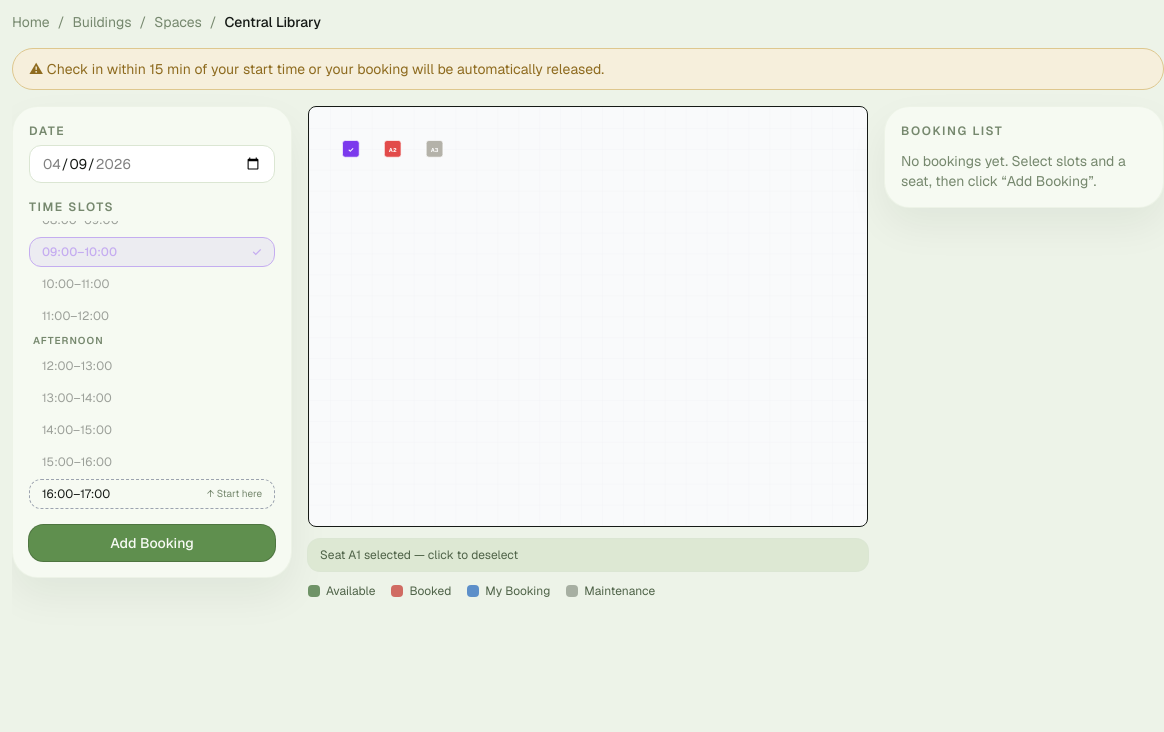
Test: SpaceFloorplanPage › booking appears in panel after add
(page scrolled)
Click the button "Add Booking": x=152, y=543 [29,525,275,561]
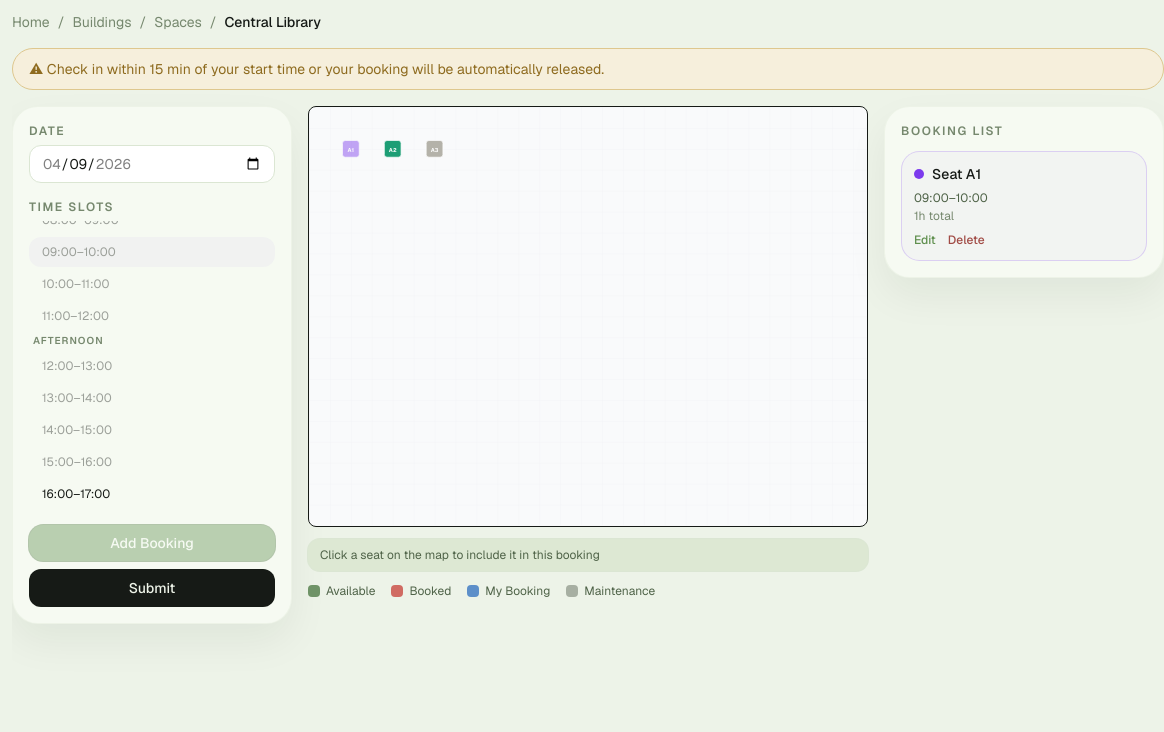
Expected: the text "Seat A1" is shown, [932,164,981,184]
Expected: the text "1h total" is shown, [914,208,954,224]
